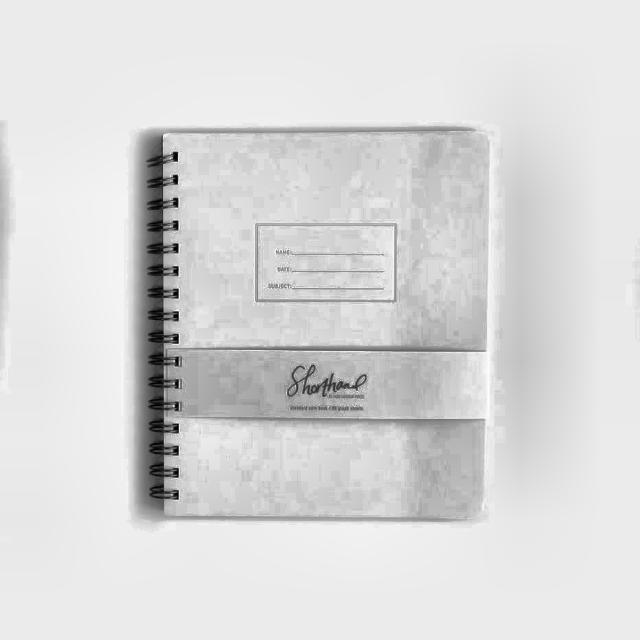Notebook: (142, 92, 524, 555)
